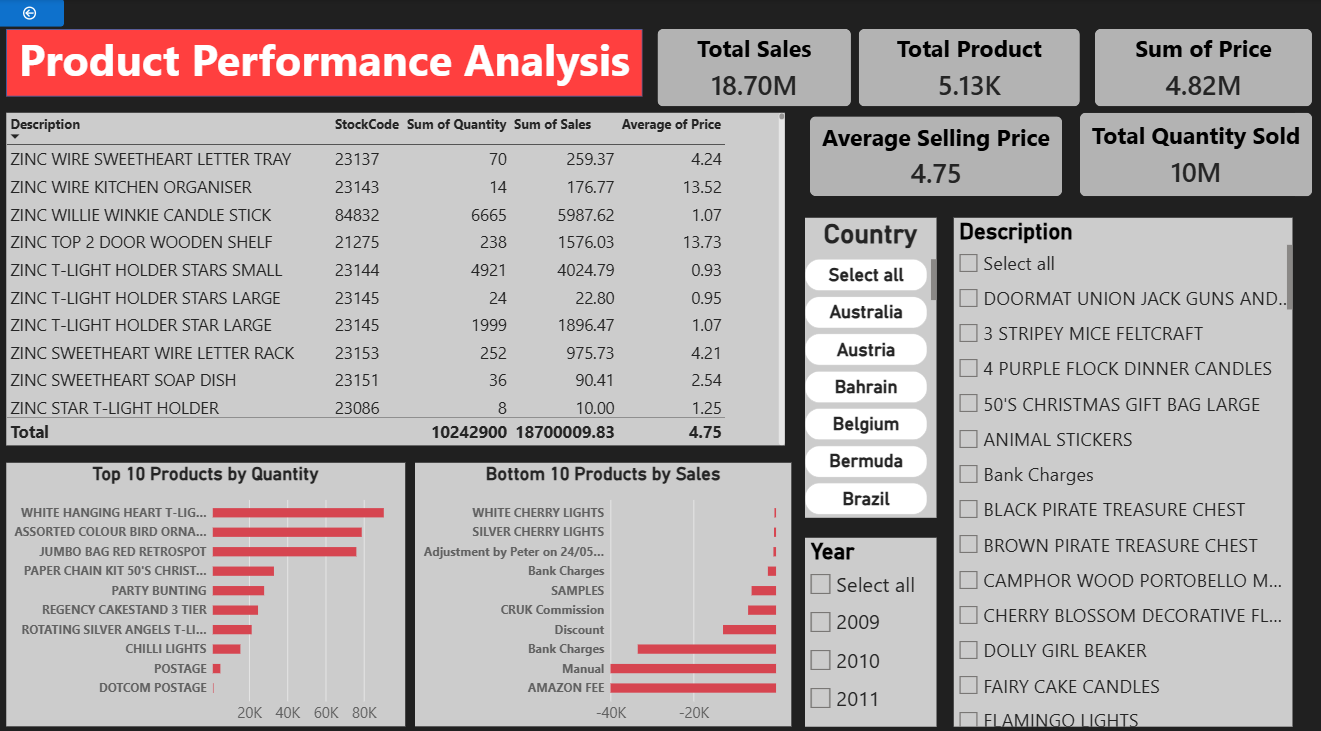

The page's visual inventory and layout, read from the dashboard file:
{"tool":"powerbi","page":{"name":"Page 2","canvas":[1920,1080],"ordinal":1},"visuals":[{"type":"shape","title":"Sales Overview Dashboard","box":[16.3,43.4,921.1,97.7],"z":3000},{"type":"cardVisual","fields":{"Data":["Sum(Retail_order_cleaned.Price)"]},"box":[1592.5,43.4,314.9,112.2],"z":4000},{"type":"cardVisual","fields":{"Data":["Avg(Retail_order_cleaned.Price)"]},"box":[1179.9,170.1,365.6,115.8],"z":5000},{"type":"cardVisual","fields":{"Data":["Count(Retail_order_cleaned.StockCode)"]},"box":[1250.5,43.4,320.3,112.2],"z":6000},{"type":"cardVisual","fields":{"Data":["Sum(Retail_order_cleaned.Quantity)"]},"box":[1570.8,164.7,336.6,121.2],"z":7000},{"type":"cardVisual","fields":{"Data":["Sum(Retail_order_cleaned.Sales)"]},"box":[959.1,43.4,280.5,112.2],"z":8000},{"type":"slicer","fields":{"Values":["Retail_order_cleaned.Year"]},"box":[1172.7,780,190,273.3],"z":9000},{"type":"advancedSlicerVisual","fields":{"Values":["Retail_order_cleaned.Country"]},"box":[1172.7,316.7,190,434.3],"z":10000},{"type":"slicer","fields":{"Values":["Retail_order_cleaned.Description"]},"box":[1388,316.7,490.4,736.5],"z":11000},{"type":"tableEx","fields":{"Values":["Retail_order_cleaned.Description","Retail_order_cleaned.StockCode","Sum(Retail_order_cleaned.Quantity)","Sum(Retail_order_cleaned.Sales)","Avg(Retail_order_cleaned.Price)"]},"box":[16.3,164.7,1127.4,481.4],"z":11001},{"type":"actionButton","box":[0,0,100,40],"z":11002},{"type":"barChart","title":"Top 10 Products by Quantity","fields":{"Category":["Retail_order_cleaned.Description"],"Y":["Sum(Retail_order_cleaned.Quantity)"]},"box":[16.3,671.4,577.3,381.8],"z":11003},{"type":"clusteredBarChart","title":"Bottom 10 Products by Sales","fields":{"Category":["Retail_order_cleaned.Description"],"Y":["Sum(Retail_order_cleaned.Sales)"]},"box":[608,671.4,544.7,381.8],"z":11004}]}

Visuals, with their boxes in screenshot pixels (x1, y1, x2, y2):
"Sales Overview Dashboard" shape: {"left": 4, "top": 27, "right": 640, "bottom": 94}
cardVisual - Sum(Retail_order_cleaned.Price): {"left": 1093, "top": 27, "right": 1310, "bottom": 104}
cardVisual - Avg(Retail_order_cleaned.Price): {"left": 808, "top": 114, "right": 1060, "bottom": 194}
cardVisual - Count(Retail_order_cleaned.StockCode): {"left": 856, "top": 27, "right": 1078, "bottom": 104}
cardVisual - Sum(Retail_order_cleaned.Quantity): {"left": 1078, "top": 110, "right": 1310, "bottom": 194}
cardVisual - Sum(Retail_order_cleaned.Sales): {"left": 655, "top": 27, "right": 849, "bottom": 104}
slicer - Retail_order_cleaned.Year: {"left": 803, "top": 535, "right": 934, "bottom": 724}
advancedSlicerVisual - Retail_order_cleaned.Country: {"left": 803, "top": 215, "right": 934, "bottom": 515}
slicer - Retail_order_cleaned.Description: {"left": 951, "top": 215, "right": 1290, "bottom": 724}
tableEx - Retail_order_cleaned.Description x Retail_order_cleaned.StockCode: {"left": 4, "top": 110, "right": 783, "bottom": 443}
actionButton: {"left": 0, "top": 0, "right": 62, "bottom": 24}
"Top 10 Products by Quantity" barChart: {"left": 4, "top": 460, "right": 403, "bottom": 724}
"Bottom 10 Products by Sales" clusteredBarChart: {"left": 413, "top": 460, "right": 789, "bottom": 724}
